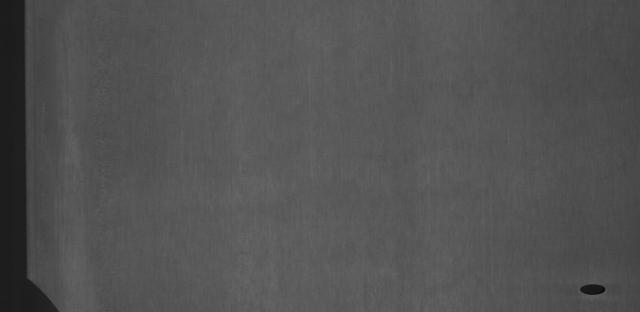crescent_gap: (23, 274, 65, 312)
punching_hole: (577, 280, 610, 300)
